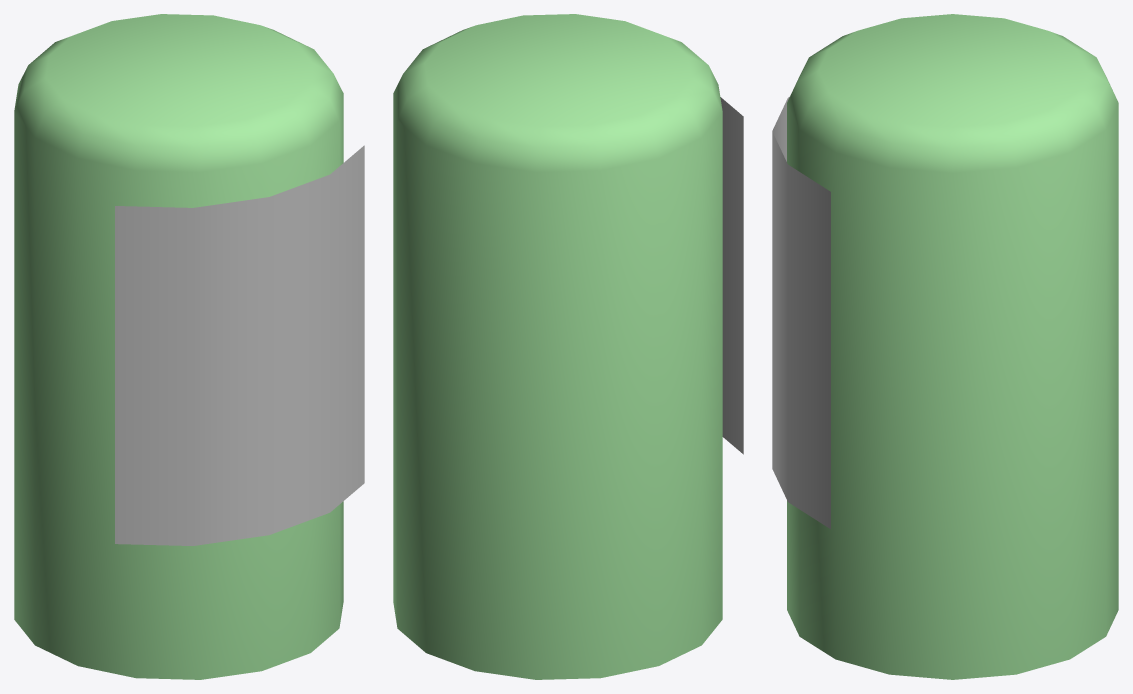
The model's file is GhostBoi.fbx.
3 renders of one model, left to right at view 1: azimuth 30°, elevation 25°; view 2: azimuth 150°, elevation 25°; view 3: azimuth 270°, elevation 25°, orthographic.
Parts seen in each view (by area): view 1: GhostBody, GhostFace; view 2: GhostBody, GhostFace; view 3: GhostBody, GhostFace.
Part boxes in pixels (left/top/right/bottom): GhostBody: left=14, top=14, right=343, bottom=679; GhostFace: left=115, top=145, right=364, bottom=545; GhostBody: left=393, top=14, right=722, bottom=679; GhostFace: left=720, top=97, right=743, bottom=454; GhostBody: left=787, top=14, right=1118, bottom=679; GhostFace: left=772, top=96, right=830, bottom=529.
Bounding box in the file's own units: 30.36 × 54.43 × 31.7.
